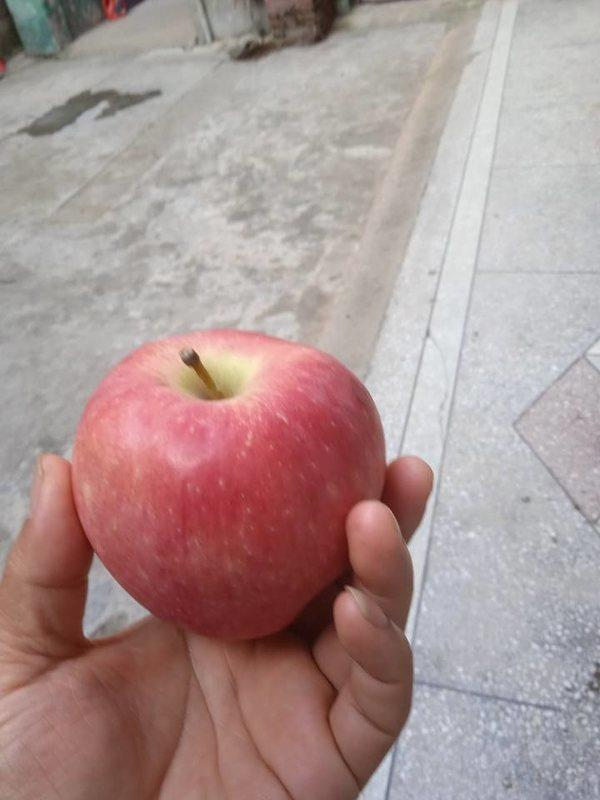apple: (69, 324, 388, 633)
